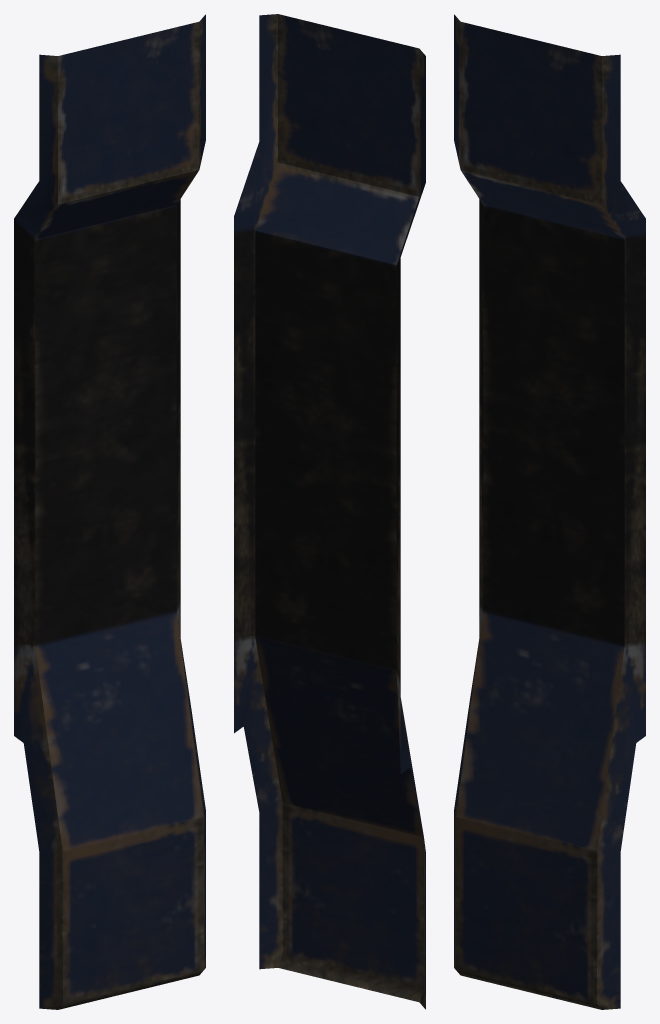
The model's file is mesh_BuildingA_TrimStraightWall_v2.3.fbx.
3 renders of one model, left to right at view 1: azimuth 30°, elevation 25°; view 2: azimuth 150°, elevation 25°; view 3: azimuth 330°, elevation 25°, orthographic.
Visible parts, largest first — view 1: mesh_BuildingA_TrimStraightWall; view 2: mesh_BuildingA_TrimStraightWall; view 3: mesh_BuildingA_TrimStraightWall.
Part boxes in pixels (x1,y1,x2,y2): mesh_BuildingA_TrimStraightWall: (14, 14, 205, 1009); mesh_BuildingA_TrimStraightWall: (234, 14, 425, 1009); mesh_BuildingA_TrimStraightWall: (454, 14, 645, 1009).
Size of the model in its own units: 36.65 by 200 by 13.78.
